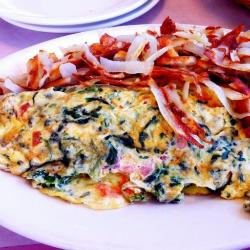omelette: (8, 88, 249, 200)
